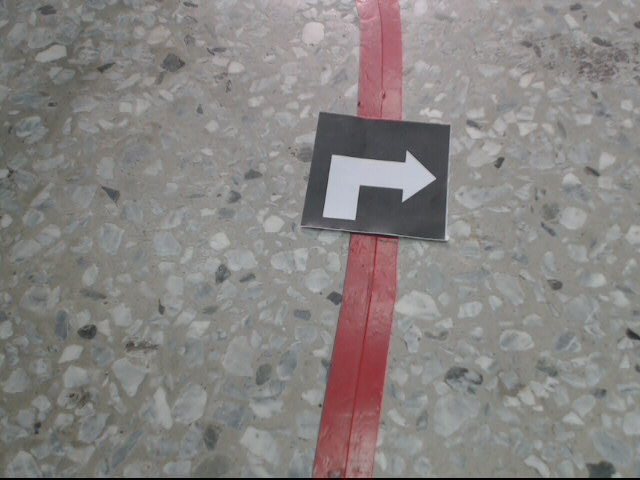right: (302, 110, 449, 241)
